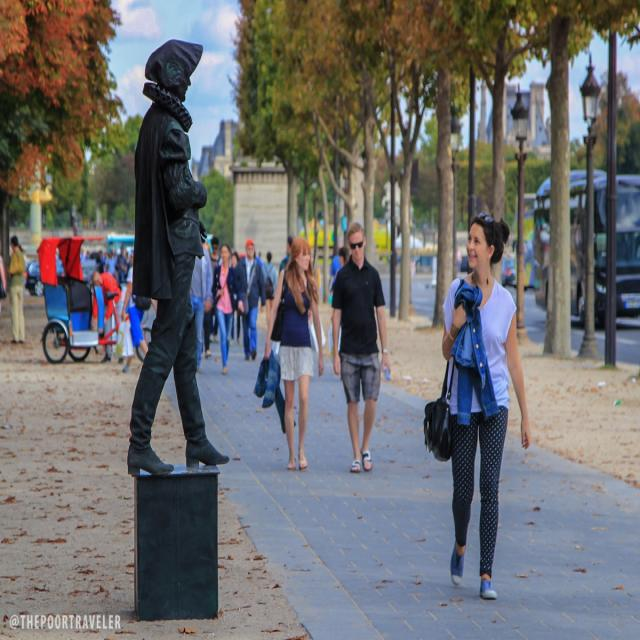body: (121, 34, 238, 481), (422, 209, 532, 604), (330, 219, 392, 475), (262, 234, 326, 474), (211, 242, 245, 376), (232, 235, 267, 362), (121, 251, 157, 374), (189, 228, 209, 374), (90, 270, 122, 360), (192, 242, 214, 362), (5, 232, 28, 346), (328, 244, 350, 358), (228, 250, 244, 348), (208, 234, 221, 344), (42, 244, 128, 258), (264, 251, 278, 327), (327, 238, 346, 287), (278, 234, 295, 276), (0, 239, 5, 336), (114, 244, 124, 288), (405, 252, 421, 278), (105, 249, 118, 278), (94, 250, 106, 274), (80, 214, 90, 229), (101, 214, 108, 230), (18, 245, 28, 254), (257, 250, 263, 260), (208, 244, 212, 258), (229, 247, 236, 254)
